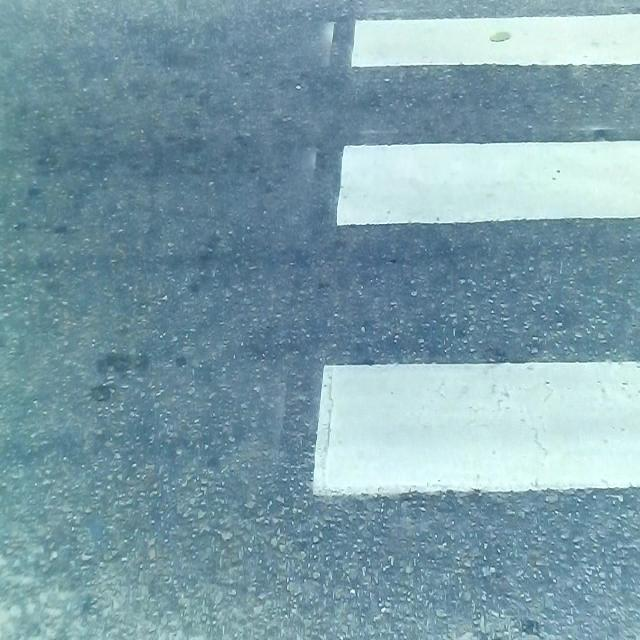crosswalk: (261, 0, 640, 640)
